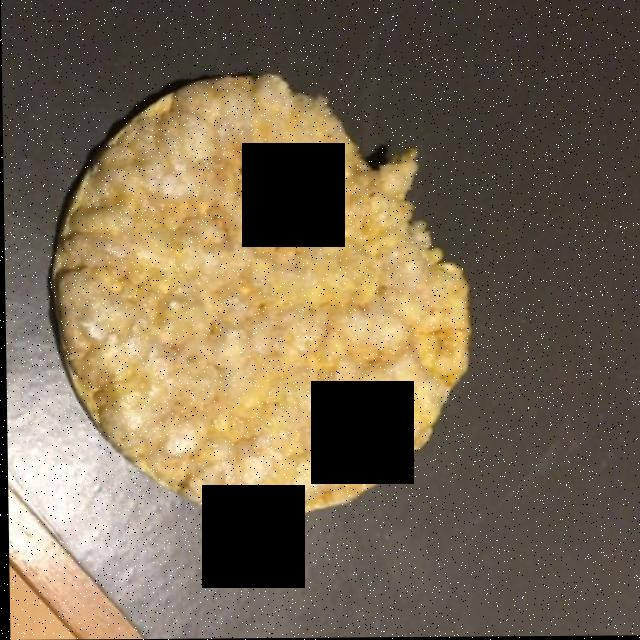rice-waffels: (62, 79, 459, 508)
